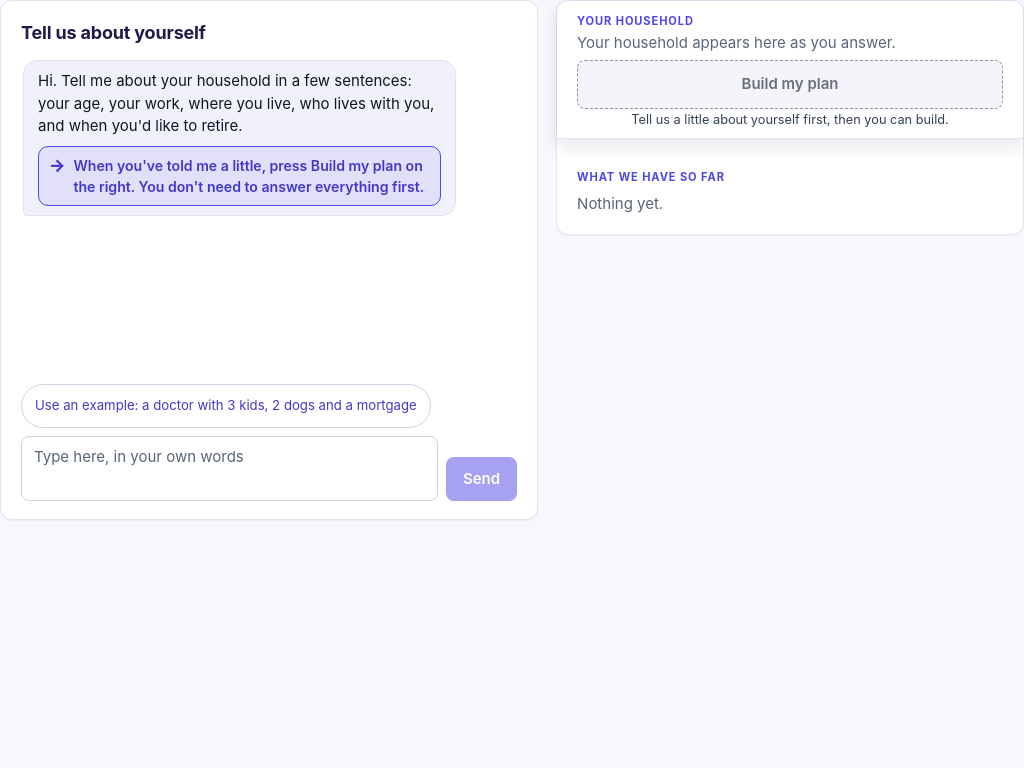
live panel › ✎ puts “Change X to:” into the chat box when the figure has no editor
Click the button "Use an example: a doctor with 3 kids, 2 dogs and a mortgage".
click(226, 406)  # box 21,384 -> 431,428
(page scrolled)
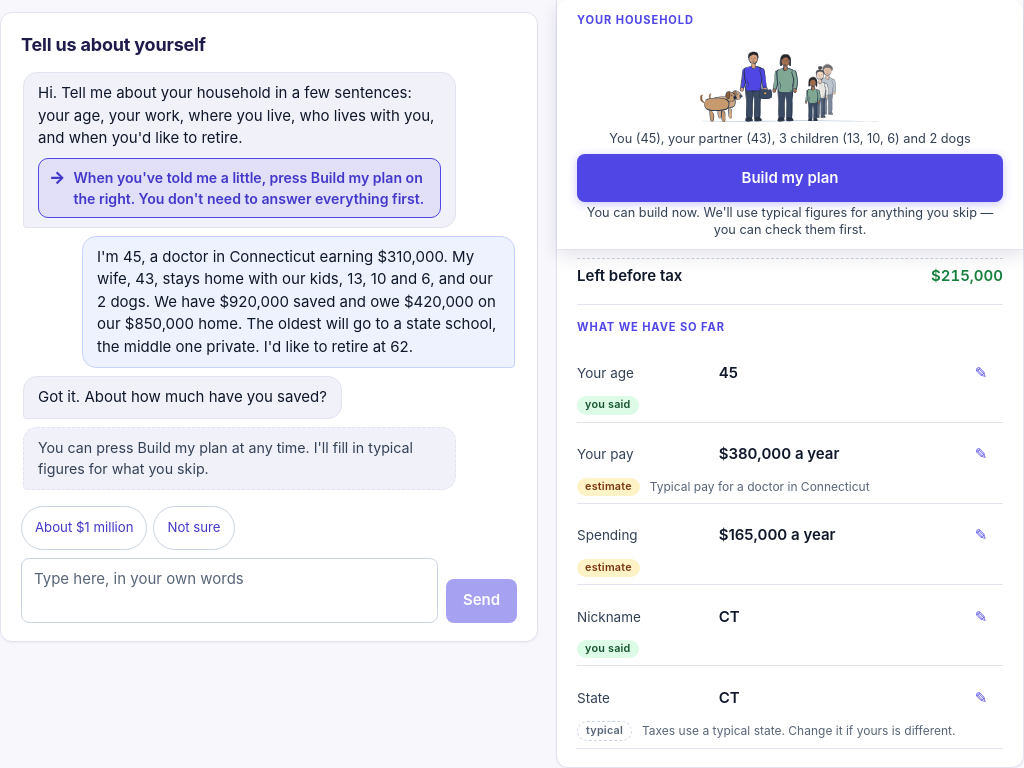
Click the button named "Change Nickname".
click(981, 616)  # box 959,594 -> 1003,638
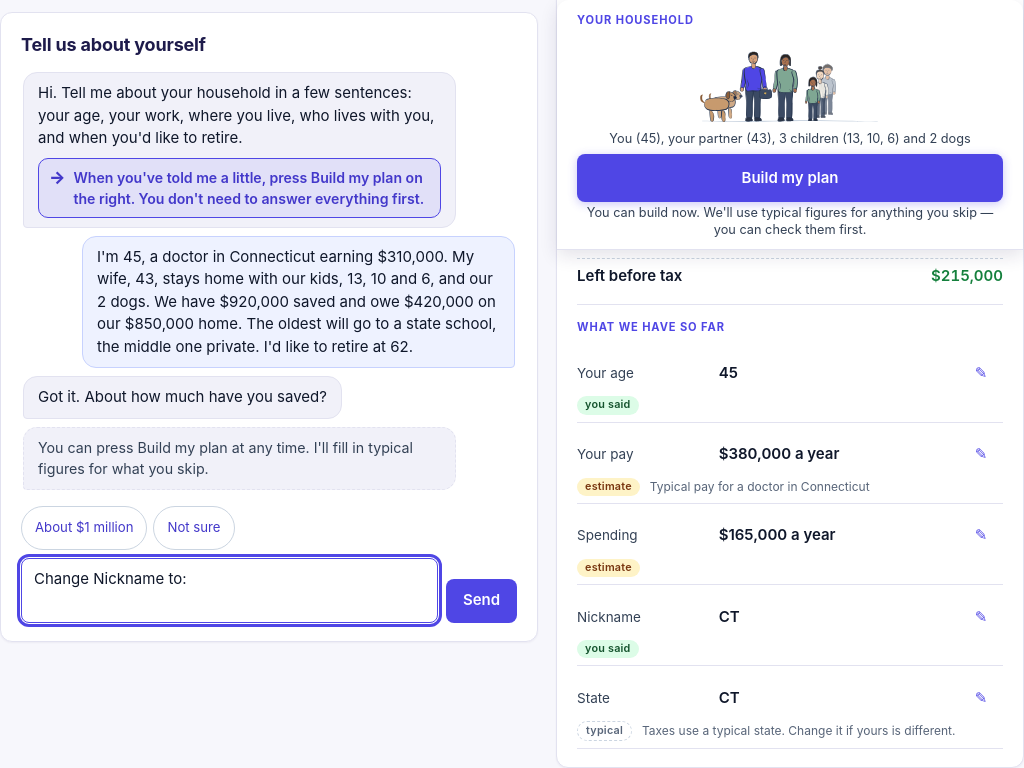
Now the text box with id "chat-input" holds "Change Nickname to: ", box 21,558 -> 438,622
